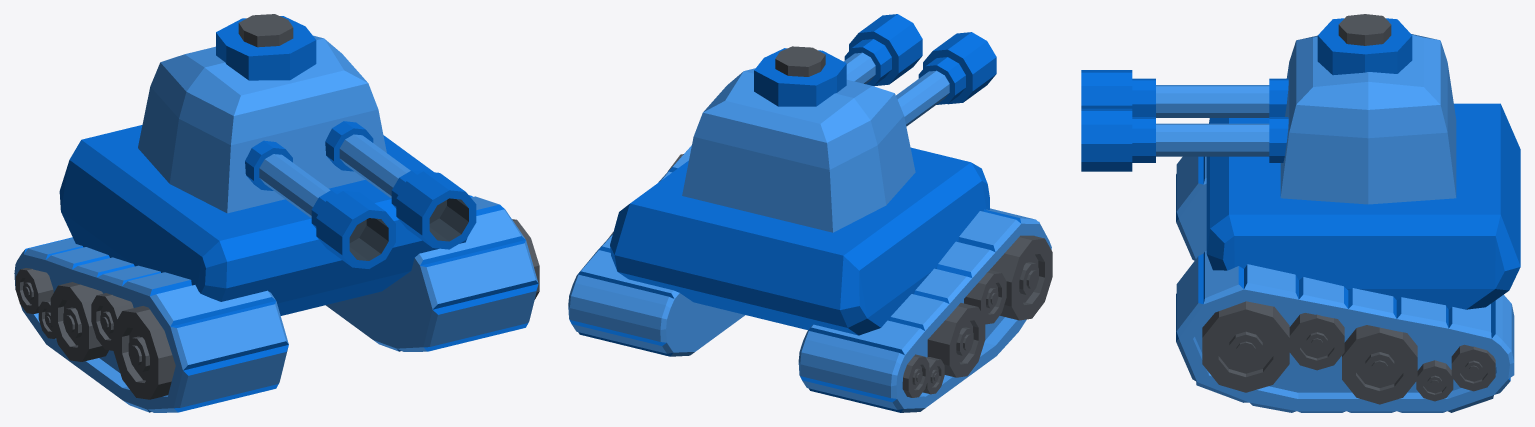
File: tank2.fbx
3 renders of one model, left to right at view 1: azimuth 30°, elevation 25°; view 2: azimuth 150°, elevation 25°; view 3: azimuth 270°, elevation 25°, orthographic. The views are drawn at different scales.
Visible parts, largest first — view 1: tank2 (×2), gun_tank2_2, gun_tank2_1; view 2: tank2 (×2), gun_tank2_1, gun_tank2_2; view 3: tank2 (×2), gun_tank2_2, gun_tank2_1.
Boxes of the visible parts, x1,y1,x2,y2 form: tank2 (×2): [14, 14, 539, 412]; gun_tank2_2: [325, 121, 476, 249]; gun_tank2_1: [245, 140, 395, 268]; tank2 (×2): [568, 46, 1052, 412]; gun_tank2_1: [896, 32, 996, 126]; gun_tank2_2: [844, 14, 922, 86]; tank2 (×2): [1176, 14, 1520, 412]; gun_tank2_2: [1081, 108, 1288, 171]; gun_tank2_1: [1081, 70, 1288, 117].
Bounding box in the file's own units: 9.85 × 7.6 × 9.93.
Materials: 1 (1 with a texture image).
